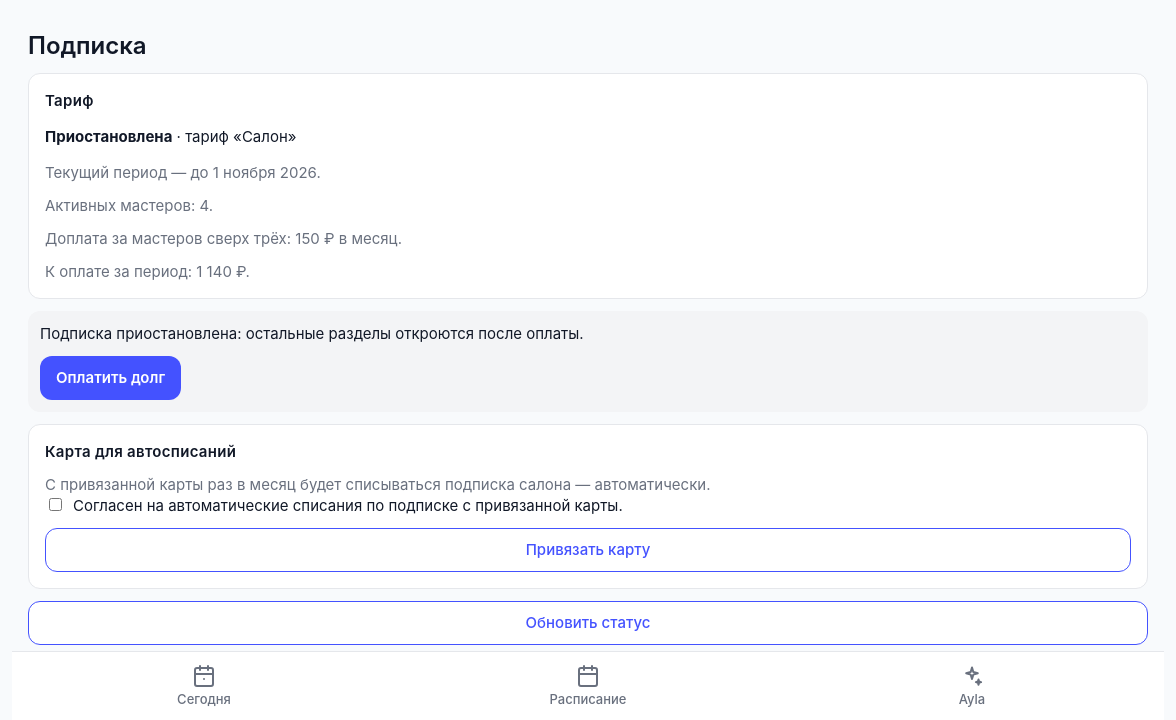
Scenario: заморозка и долг › при заморозке — оплата долга; сумма после списания
The image size is (1176, 720).
Expected: the text "Подписка приостановлена" is shown, [40,324,584,343]
Click the button "Оплатить долг" at (111, 378), box [40,356,181,400]
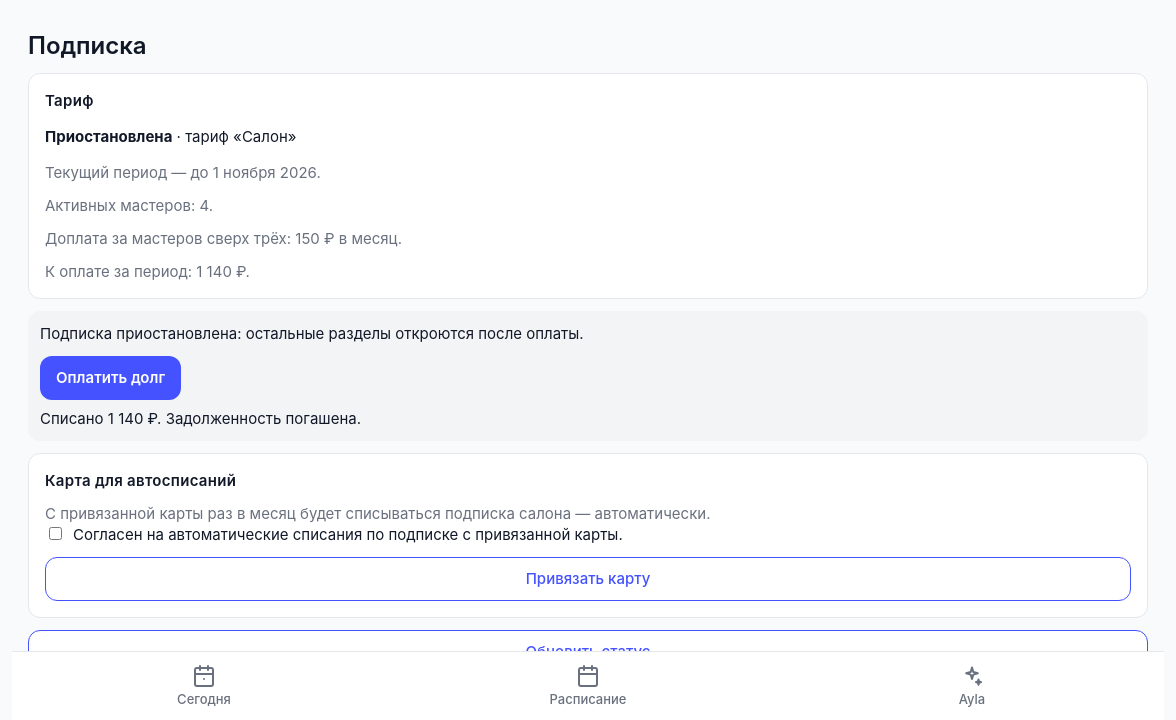
Expected: the text "Списано 1 140 ₽. Задолженность погашена." is shown, [40,409,361,428]
